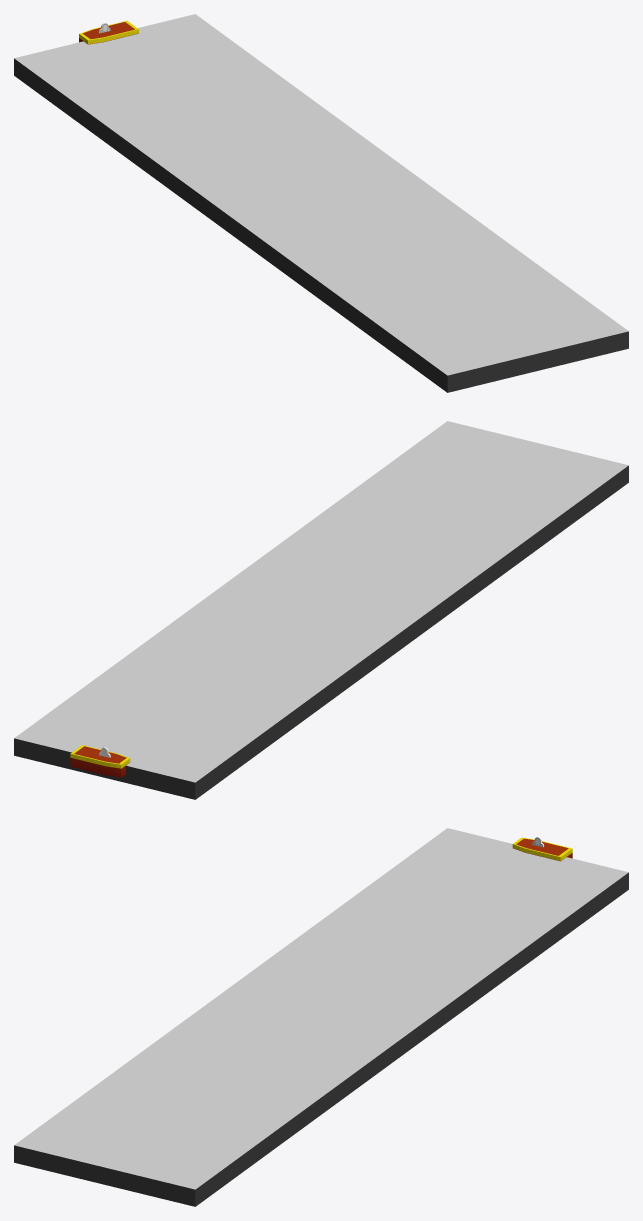
Rendered from environment.fbx.
3 views of the same model, one above another, from view 1: azimuth 30°, elevation 25°; view 2: azimuth 150°, elevation 25°; view 3: azimuth 330°, elevation 25° (orthographic).
Visible parts, largest first — view 1: path, coffin; view 2: path, coffin; view 3: path, coffin.
Part boxes in pixels (left/top/right/bottom): path: left=14, top=14, right=628, bottom=392; coffin: left=79, top=20, right=138, bottom=44; path: left=14, top=421, right=628, bottom=799; coffin: left=70, top=745, right=130, bottom=777; path: left=14, top=828, right=628, bottom=1206; coffin: left=512, top=837, right=572, bottom=861.
Bounding box in the file's own units: 731 × 137 × 3066.
